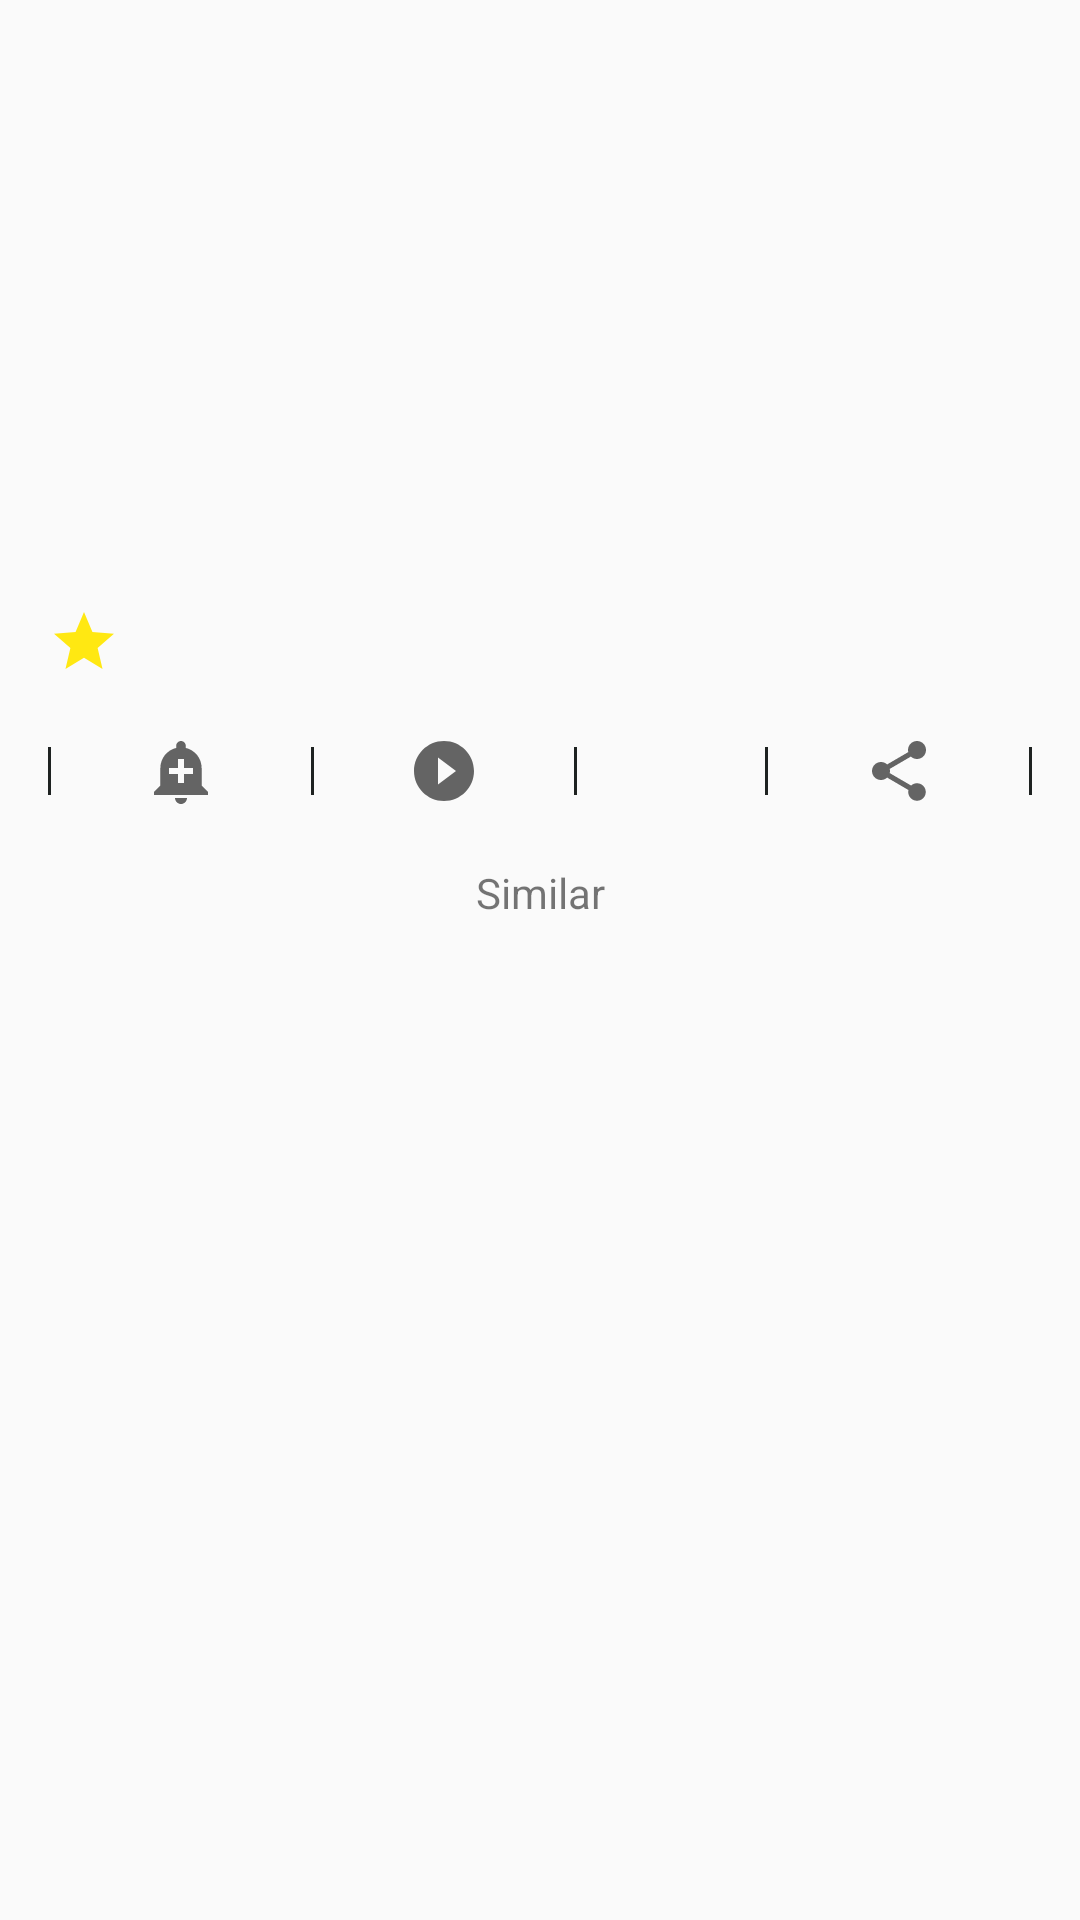

Where to tap for icons on this 1080px×1920px app screen, as (x=x, y=y):
add alert: (x=181, y=772)
play circle: (x=444, y=771)
share: (x=899, y=771)
star: (x=84, y=640)
